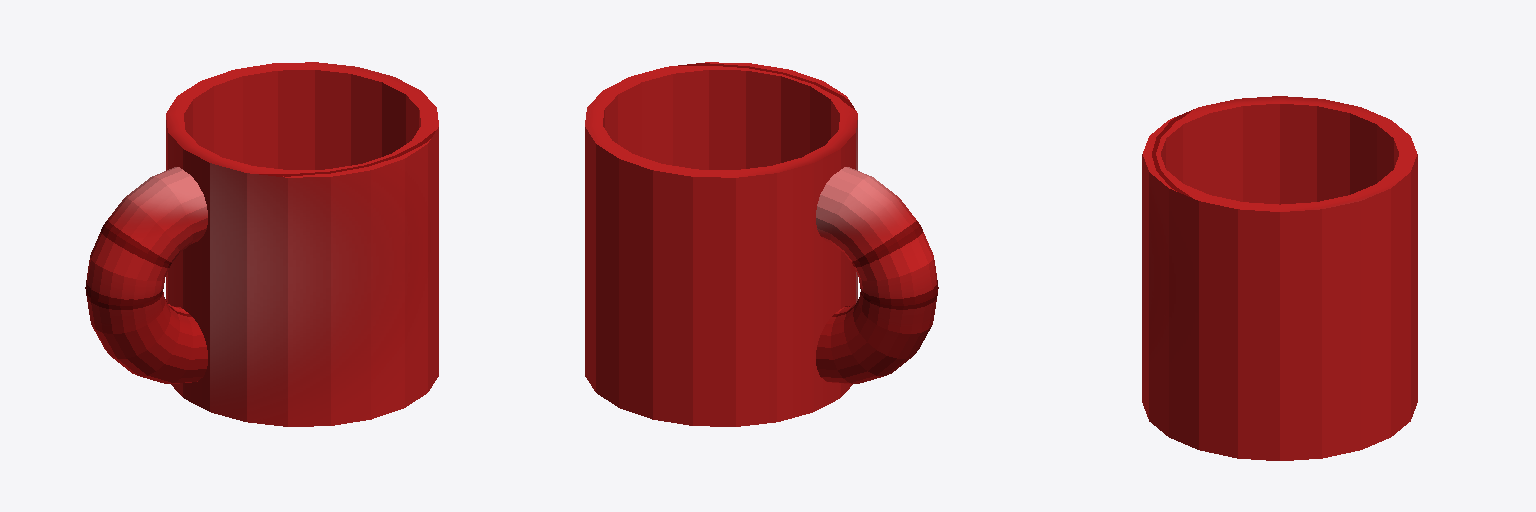
3 views of the same model, side by side, from view 1: azimuth 30°, elevation 25°; view 2: azimuth 150°, elevation 25°; view 3: azimuth 270°, elevation 25° (orthographic).
Visible parts, largest first — view 1: pCylinder3; view 2: pCylinder3; view 3: pCylinder3.
Part boxes in pixels (x1,y1,x2,y2): pCylinder3: (85, 62, 438, 426); pCylinder3: (585, 62, 938, 426); pCylinder3: (1142, 96, 1417, 460).
Bounding box in the file's own units: 0.1283 × 0.0923 × 0.0923.
Materials: 1 (1 with a texture image).